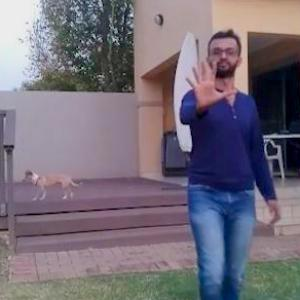follow_hand: (180, 55, 238, 112)
